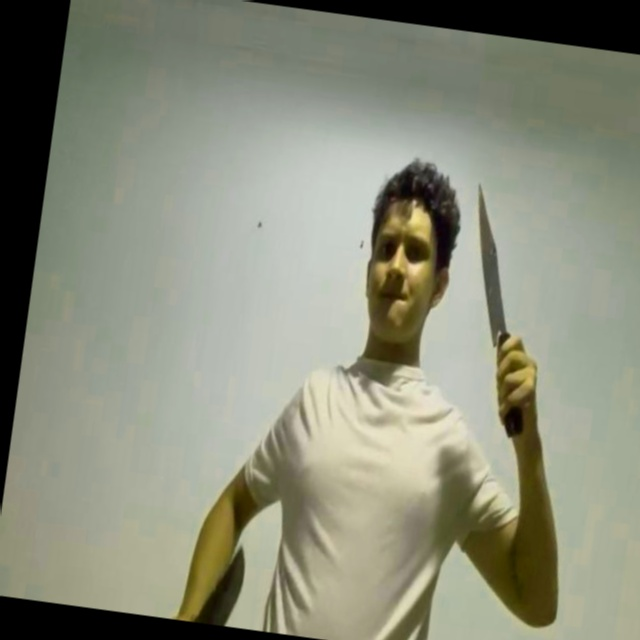Sharp-Object: (456, 185, 523, 346)
